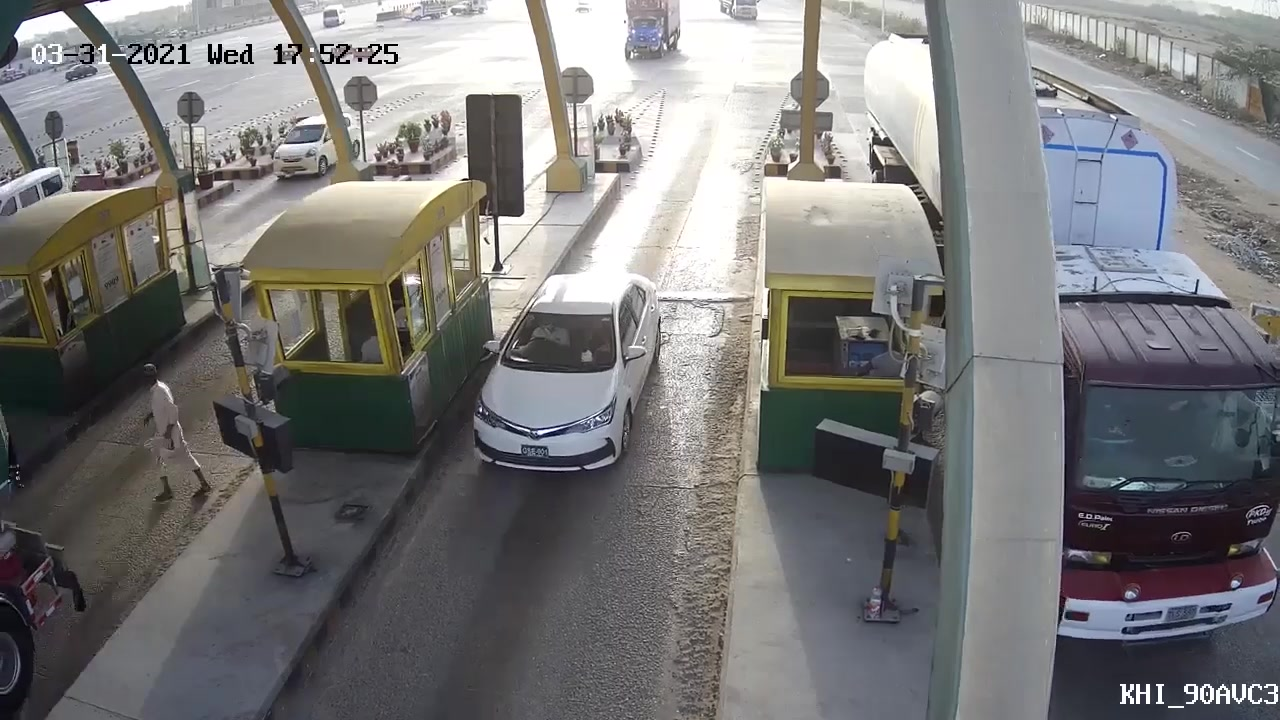F1: (450, 272, 665, 496)
